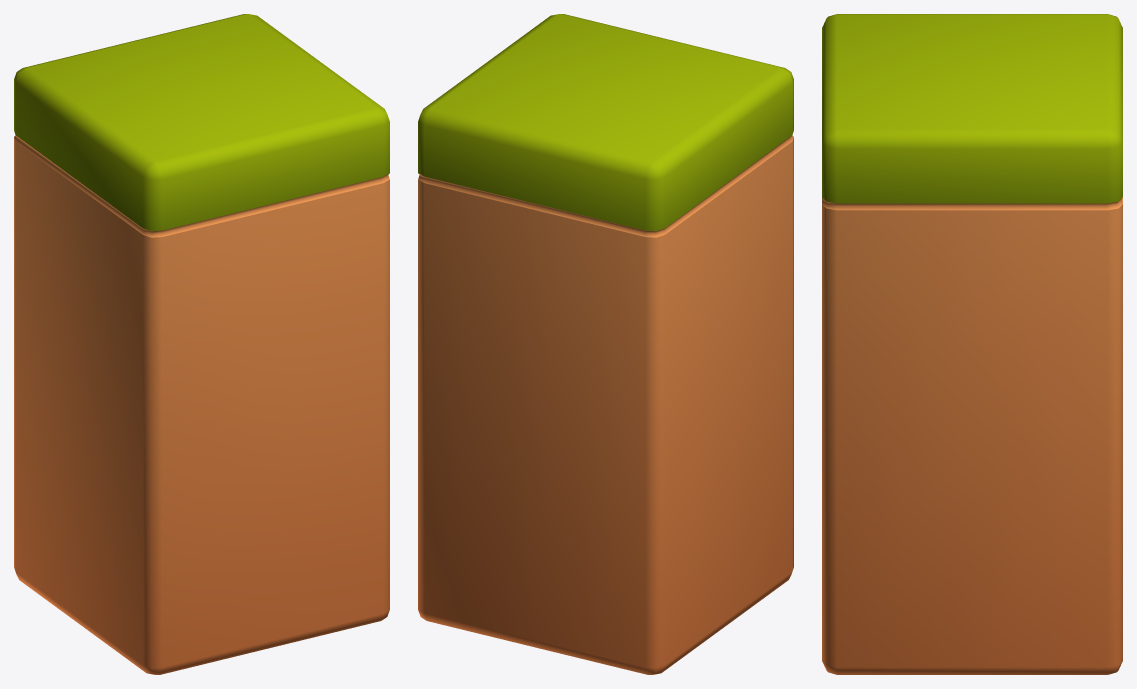
File: 3D_Tile_Ground_01x2.fbx
3 renders of one model, left to right at view 1: azimuth 30°, elevation 25°; view 2: azimuth 150°, elevation 25°; view 3: azimuth 270°, elevation 25°, orthographic. The views are drawn at different scales.
Visible parts, largest first — view 1: 3D_Tile_Ground_01x2; view 2: 3D_Tile_Ground_01x2; view 3: 3D_Tile_Ground_01x2.
Boxes of the visible parts, x1=… form: 3D_Tile_Ground_01x2: x1=14, y1=14, x2=389, y2=674; 3D_Tile_Ground_01x2: x1=418, y1=14, x2=793, y2=674; 3D_Tile_Ground_01x2: x1=822, y1=14, x2=1122, y2=674.
Size of the model in its own units: 200 by 400 by 200.
